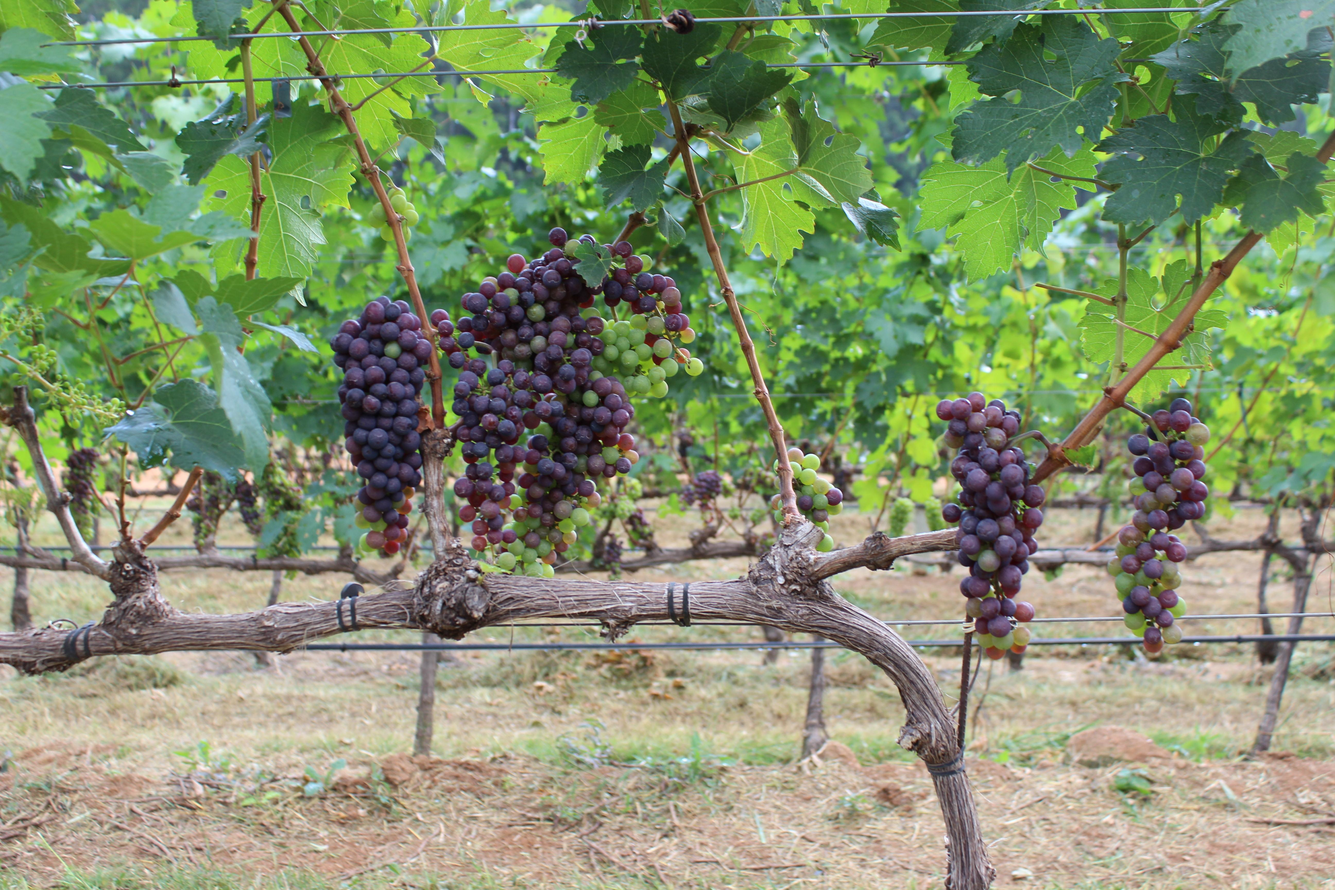leaf: (952, 16, 1127, 171), (919, 147, 1095, 280), (1097, 97, 1253, 224), (1154, 22, 1330, 125), (257, 104, 352, 278), (106, 380, 246, 478), (195, 296, 271, 472), (1079, 260, 1190, 367), (785, 99, 872, 206), (1224, 0, 1335, 76), (1223, 152, 1327, 232), (705, 50, 792, 132), (555, 27, 642, 105), (738, 177, 815, 264), (40, 88, 146, 151), (175, 113, 268, 184), (642, 23, 722, 99), (945, 0, 1050, 54), (89, 209, 198, 261), (0, 78, 50, 181), (538, 114, 607, 184), (598, 144, 668, 210), (595, 82, 662, 145), (0, 27, 83, 77), (737, 117, 797, 181), (868, 15, 954, 59), (1102, 11, 1179, 58), (1171, 309, 1227, 365), (0, 0, 78, 40), (841, 198, 900, 250), (207, 156, 250, 218), (149, 281, 198, 335), (565, 240, 615, 286), (192, 0, 251, 37), (1131, 369, 1194, 400), (889, 0, 958, 14), (1101, 0, 1173, 10), (1096, 279, 1117, 298), (218, 42, 229, 46), (1054, 16, 1067, 17), (65, 90, 70, 91), (261, 465, 262, 469), (915, 10, 916, 11), (0, 85, 3, 85)
